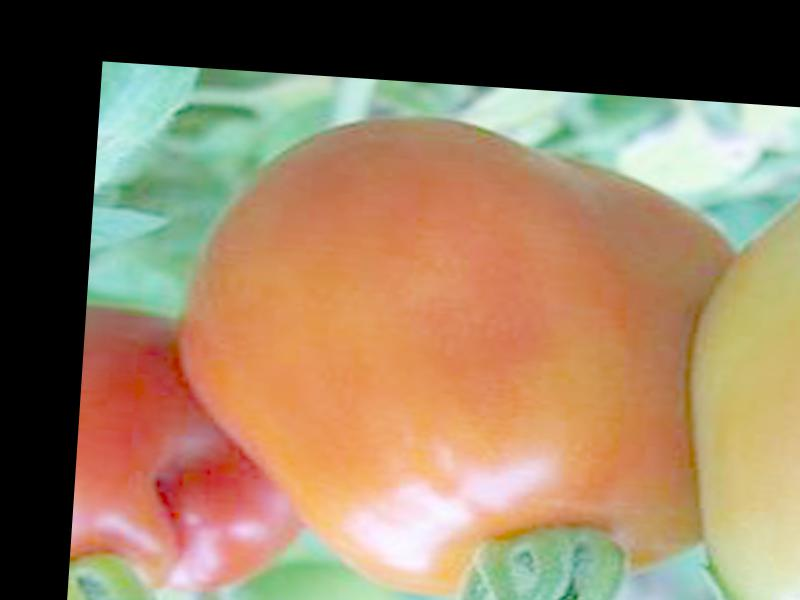Tomato: (163, 103, 717, 600)
